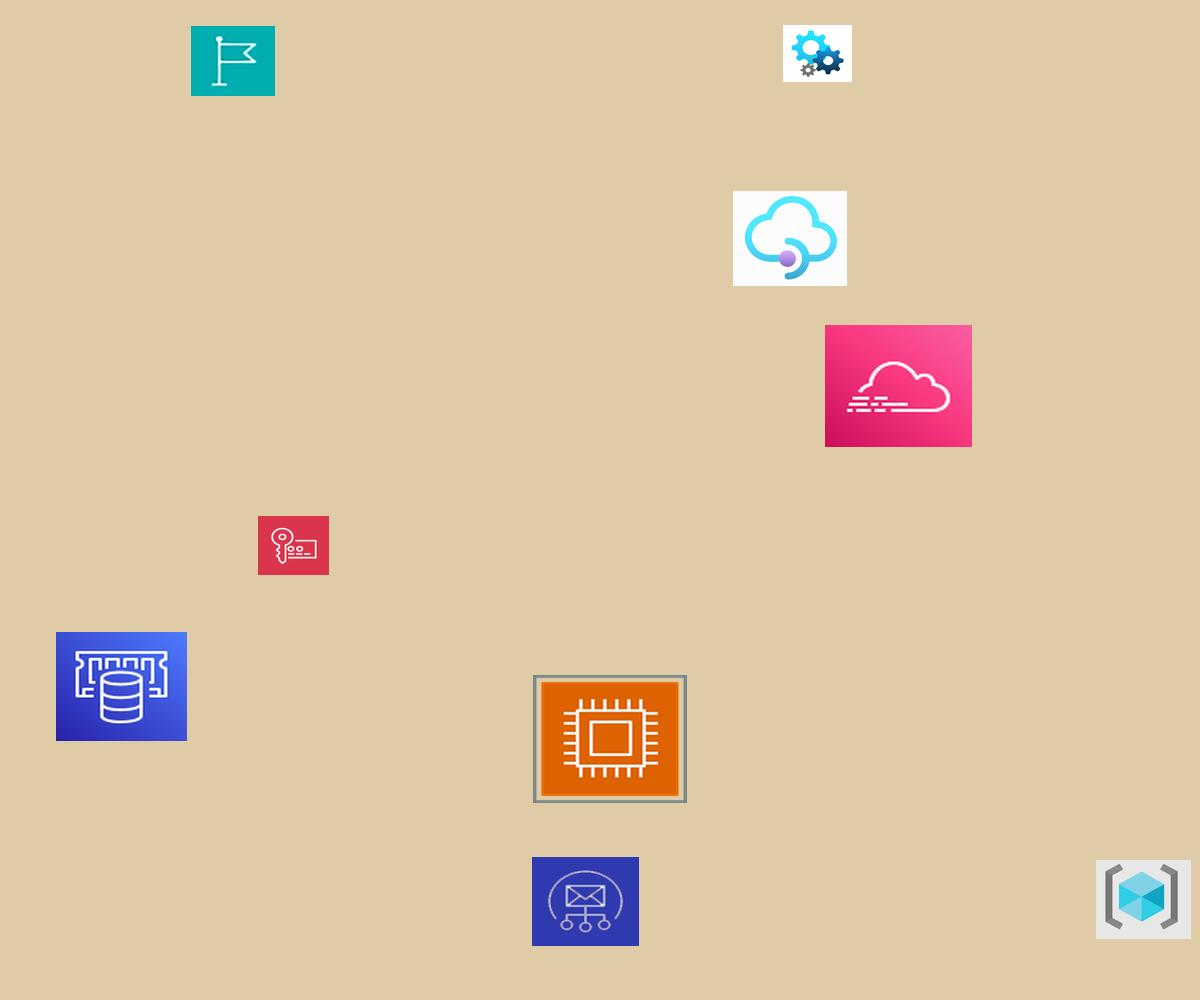AWS-Category_Compute: (533, 675, 687, 803)
AWS-CloudTrail: (825, 325, 972, 447)
AWS-ElastiCache: (56, 632, 187, 741)
AWS-Key-Management-Service: (258, 516, 329, 575)
AWS-Region: (191, 26, 275, 96)
AWS-Simple-Email-Service: (532, 857, 639, 946)
Azure_api: (783, 25, 852, 82)
Azure_api_gateway: (733, 191, 847, 286)
Azure_resource_group: (1096, 860, 1191, 939)
